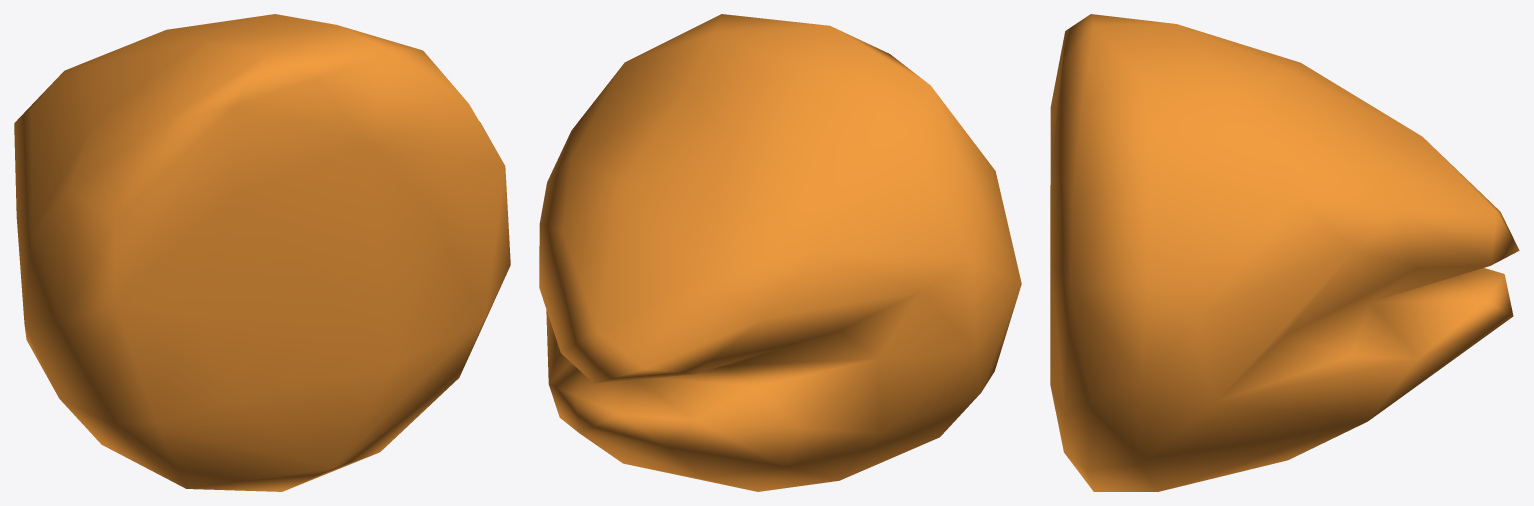
The model's file is fitted.glb.
3 views of the same model, side by side, from view 1: azimuth 30°, elevation 25°; view 2: azimuth 150°, elevation 25°; view 3: azimuth 270°, elevation 25° (orthographic). The views are drawn at different scales.
Size of the model in its own units: 1.08 by 1.01 by 0.9936.
Materials: 1 (1 with a texture image).
